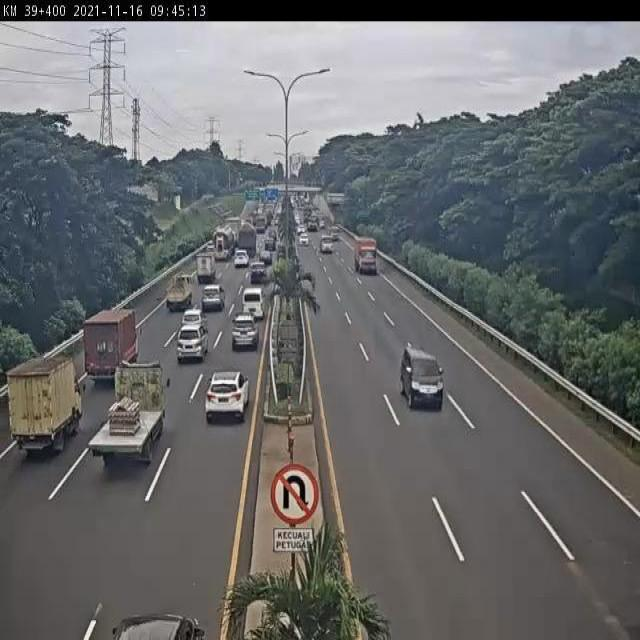car: (401, 347, 444, 409), (205, 369, 252, 422), (176, 326, 210, 362), (230, 315, 258, 349), (202, 283, 226, 312), (247, 262, 268, 286), (182, 307, 204, 329)
small bus: (241, 290, 263, 322)
small truck: (6, 356, 83, 453), (164, 273, 192, 315), (196, 251, 218, 284)
truck-m-: (88, 362, 172, 462), (84, 309, 145, 382)
